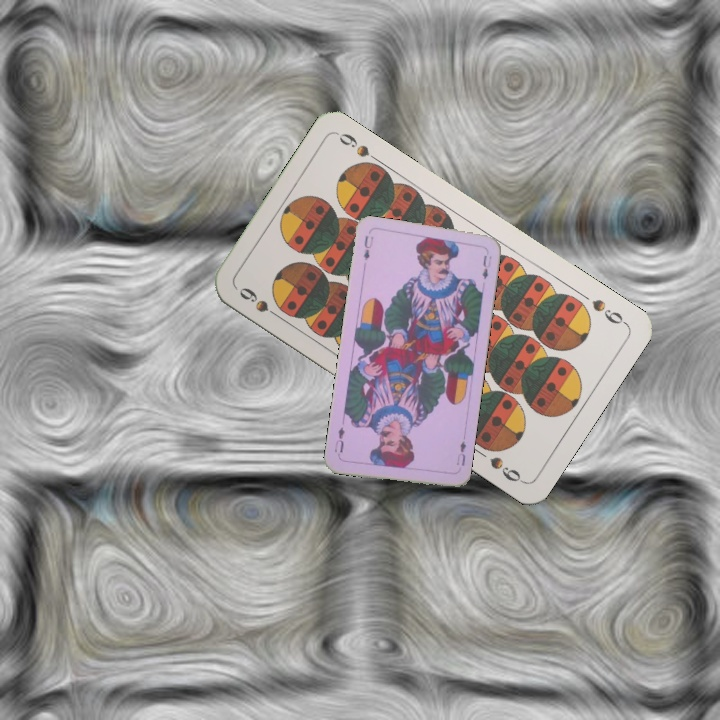EU: (452, 437, 469, 468), (360, 231, 376, 262)
S9: (234, 283, 286, 323), (587, 295, 630, 328)
